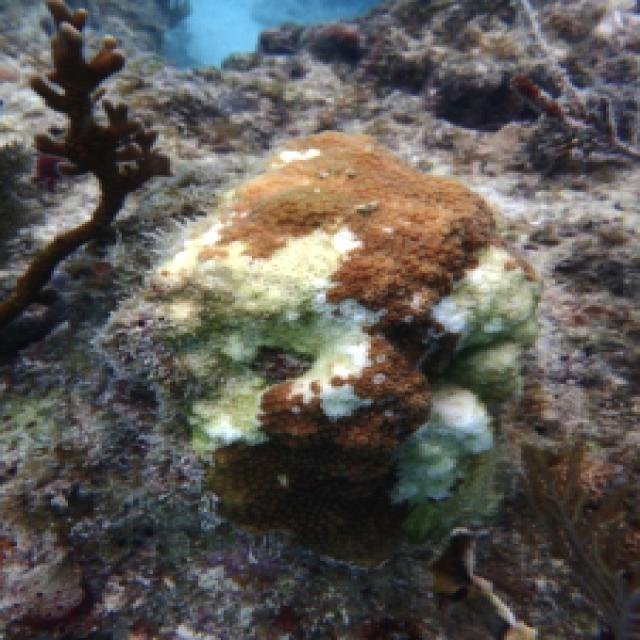Coral: (91, 128, 548, 572), (0, 0, 177, 371)
